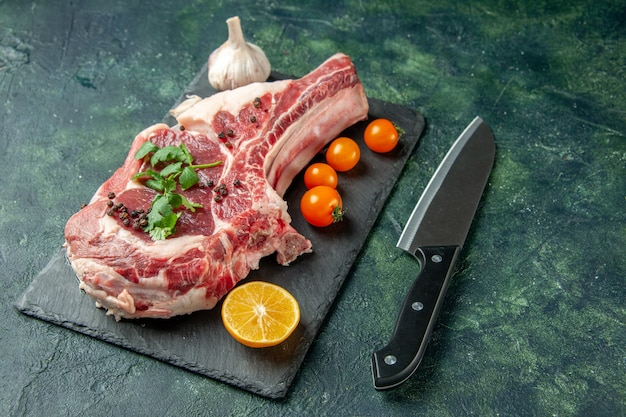knife: (370, 116, 498, 389)
